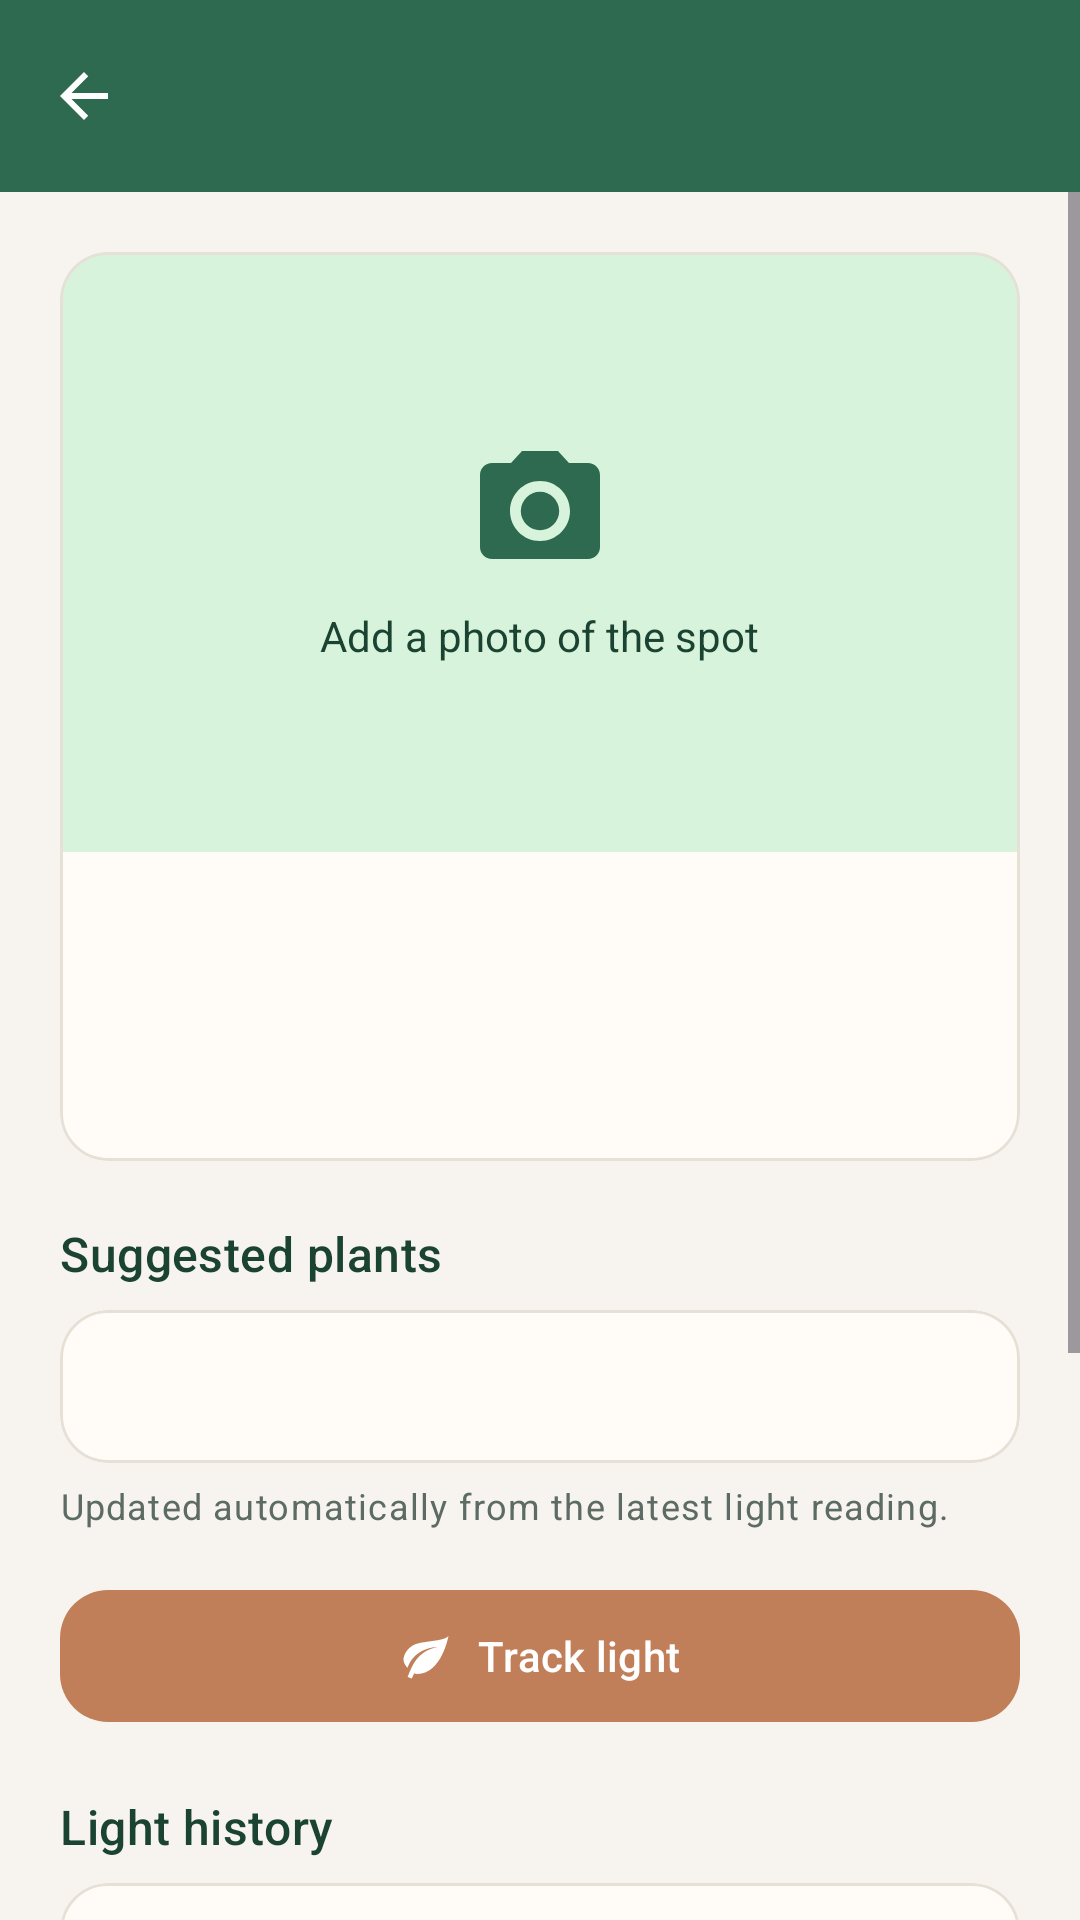

Icons on this 1080px×1920px Android screen, each with its box as [x1=x1, y1=y1, x2=x2, y2=y2]:
camera: [x1=480, y1=451, x2=600, y2=559]
